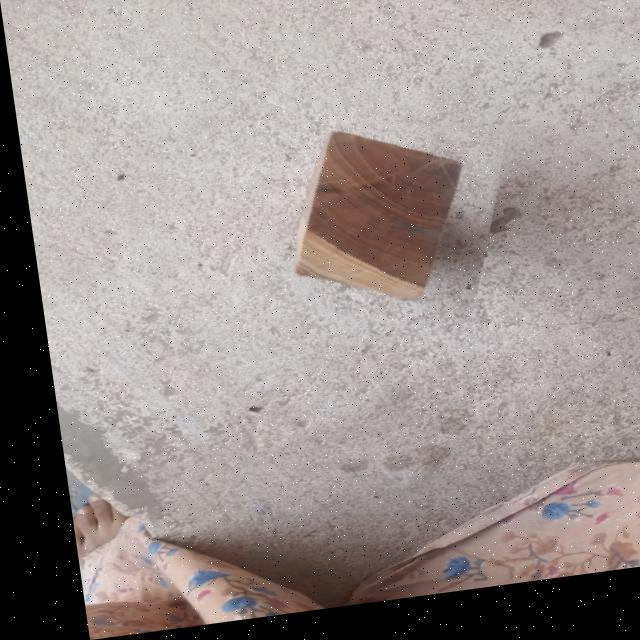wood: (234, 93, 508, 354)
